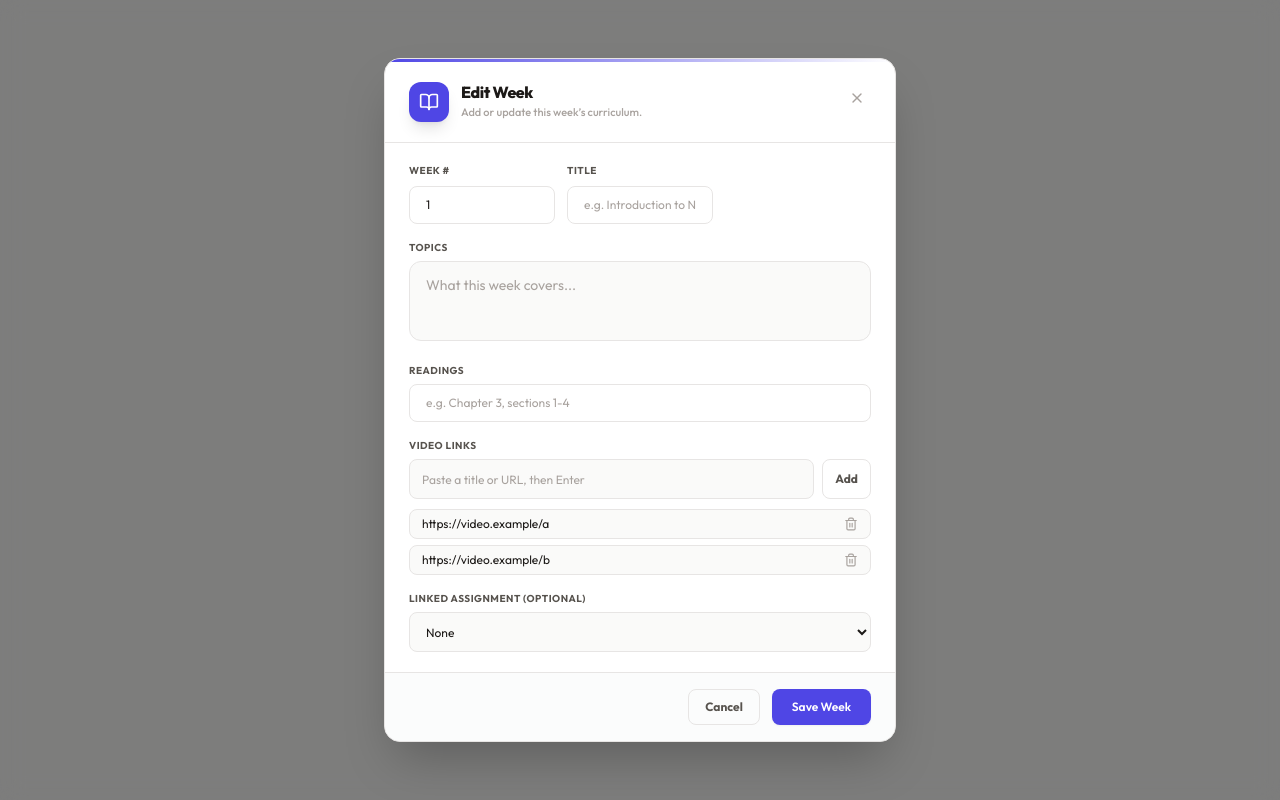
SyllabusWeekForm › removes a video link
Expected: the text "https://video.example/a" is shown, x1=422 y1=516 x2=549 y2=532
Expected: the text "https://video.example/b" is shown, x1=422 y1=552 x2=550 y2=568
Click the button without text in the row of "https://video.example/a" at (851, 524), box x1=844 y1=517 x2=858 y2=531
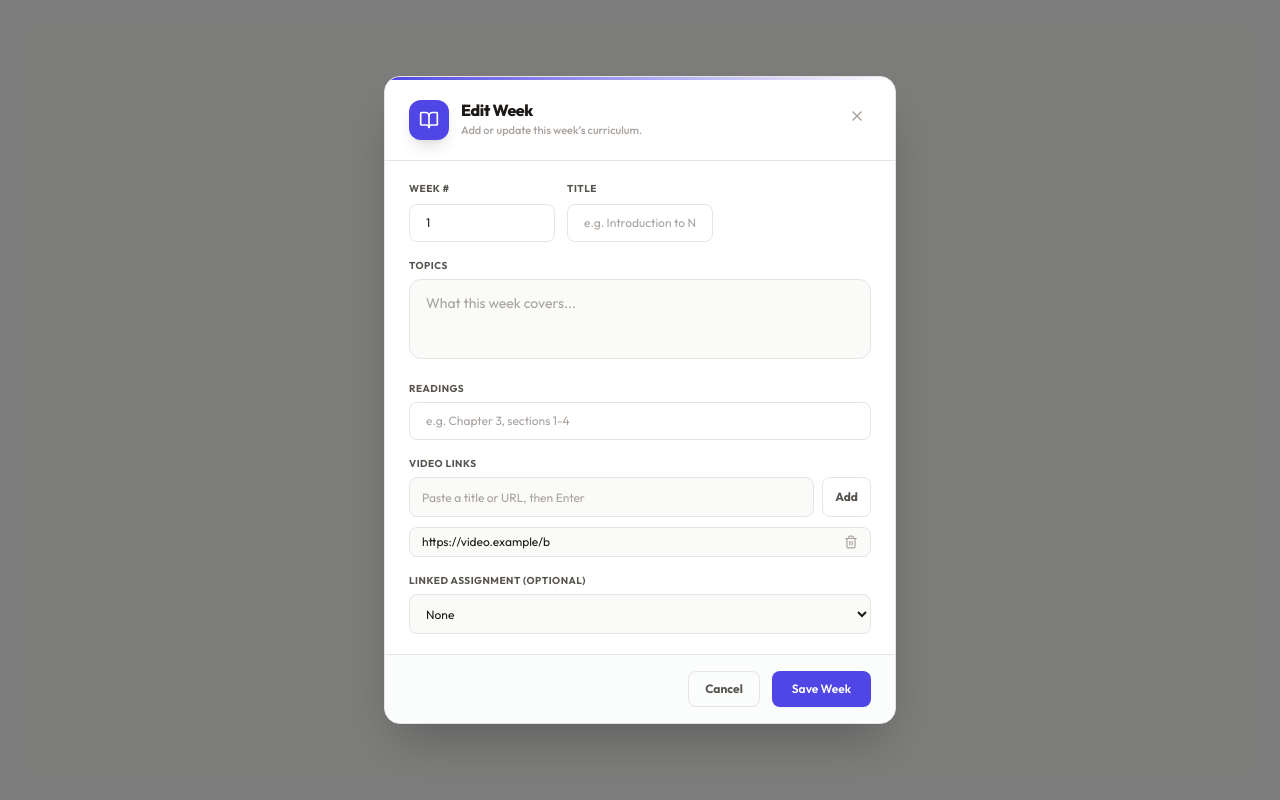
Expected: the text "https://video.example/a" is gone
Expected: the text "https://video.example/b" is shown, x1=422 y1=534 x2=550 y2=550
